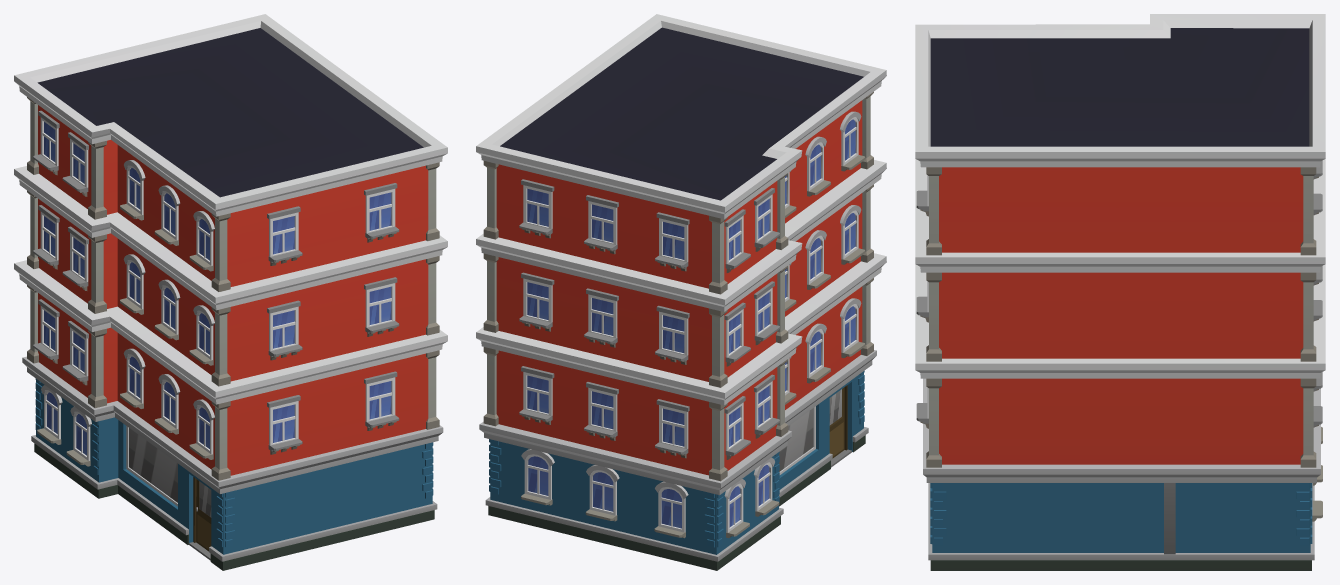
The model's file is Building_1_A.fbx.
The picture shows the model from 3 angles, left to right: view 1: azimuth 30°, elevation 25°; view 2: azimuth 150°, elevation 25°; view 3: azimuth 270°, elevation 25°; orthographic projection. The views are drawn at different scales.
Visible parts, largest first — view 1: Building_1_A; view 2: Building_1_A; view 3: Building_1_A.
Boxes of the visible parts, x1,y1,x2,y2 form: Building_1_A: (14, 14, 447, 570); Building_1_A: (476, 14, 886, 570); Building_1_A: (915, 14, 1325, 570).
Size of the model in its own units: 841 by 1201 by 1057.
